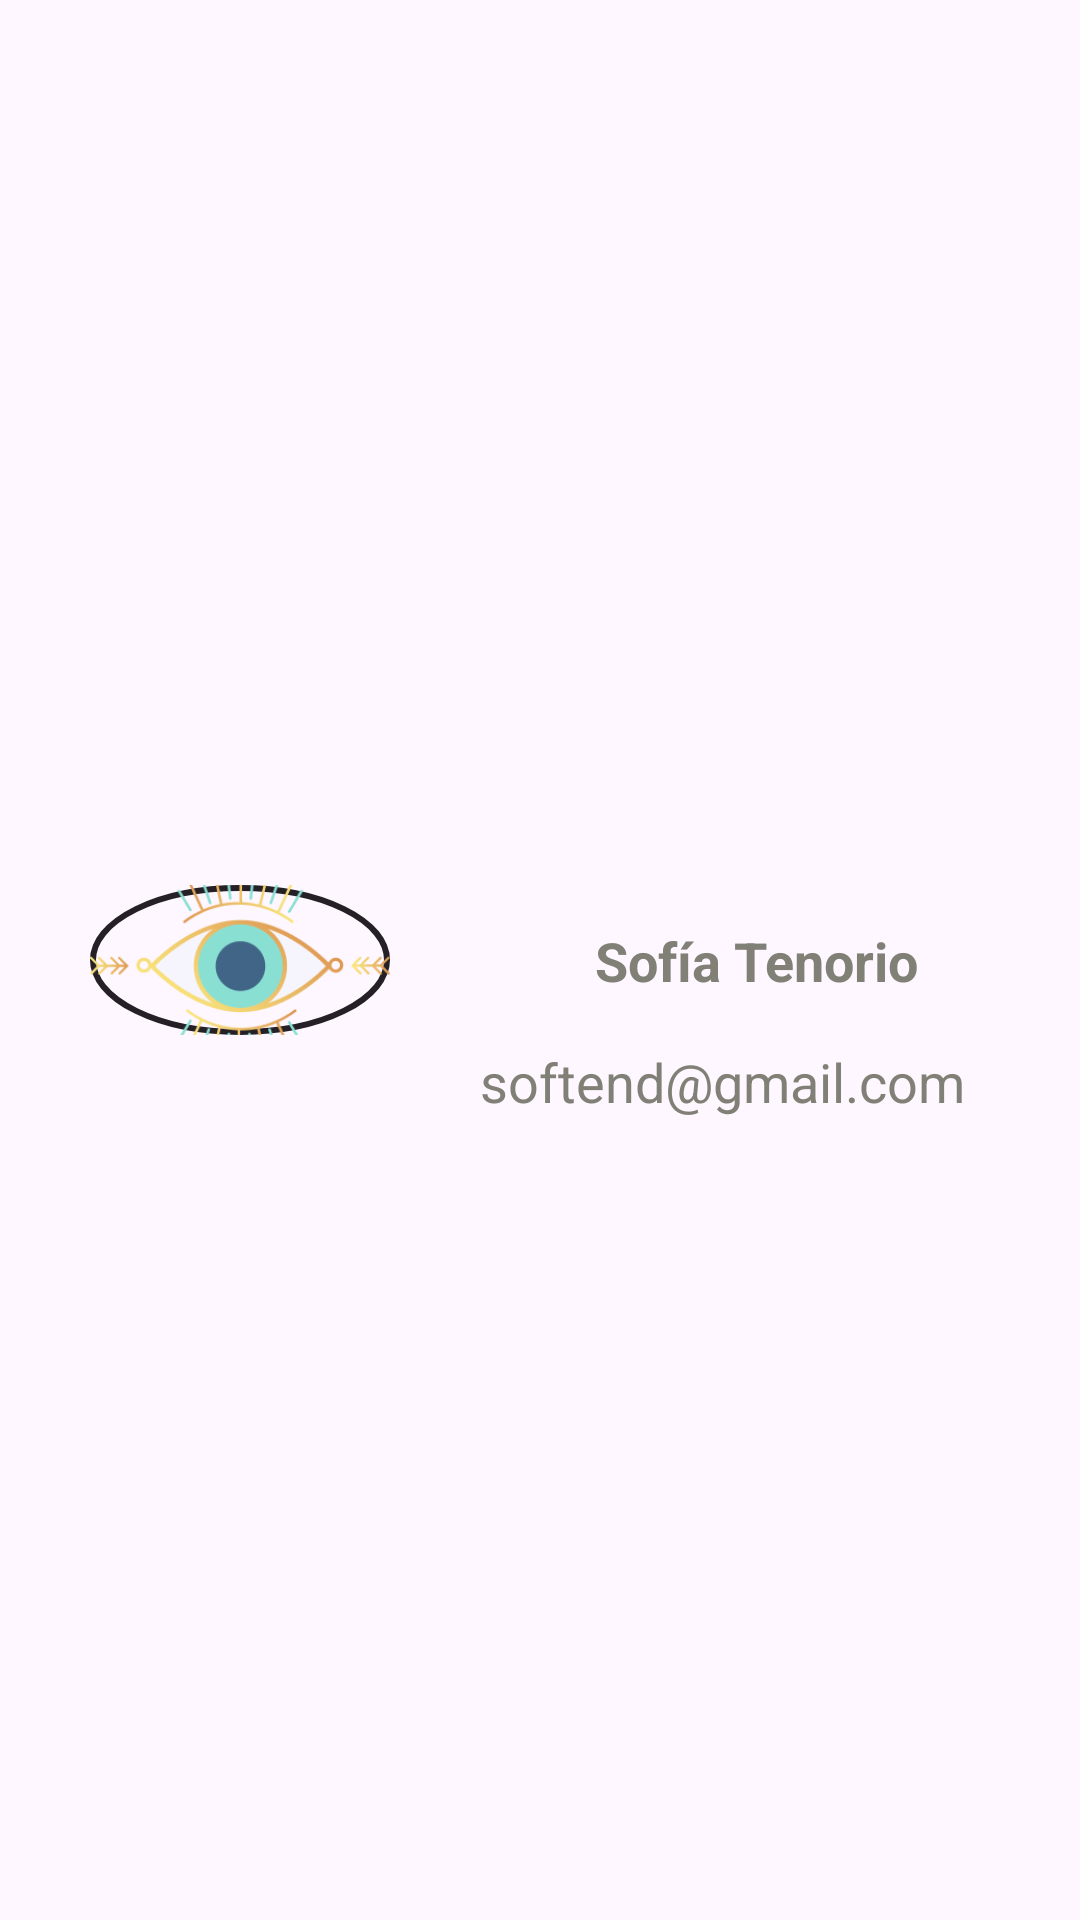

Point at icon controls on the screen. Image size 1080 x 1920, points as (x,y).
ojo abierto: (240,960)
